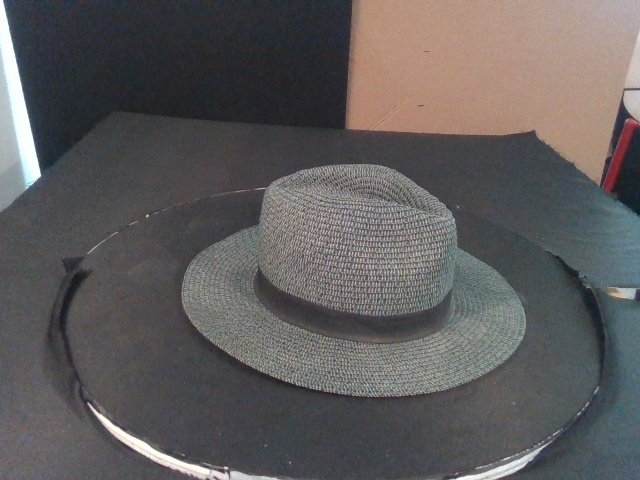hat: (181, 162, 526, 397)
